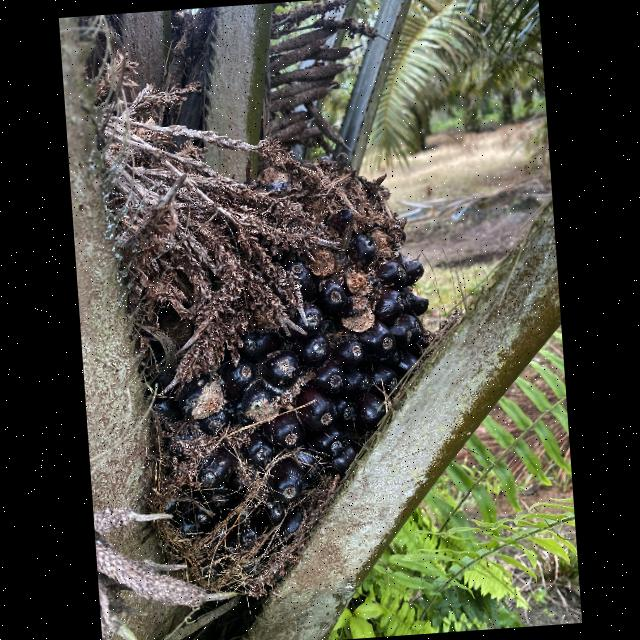Unripe: (115, 165, 430, 563)
